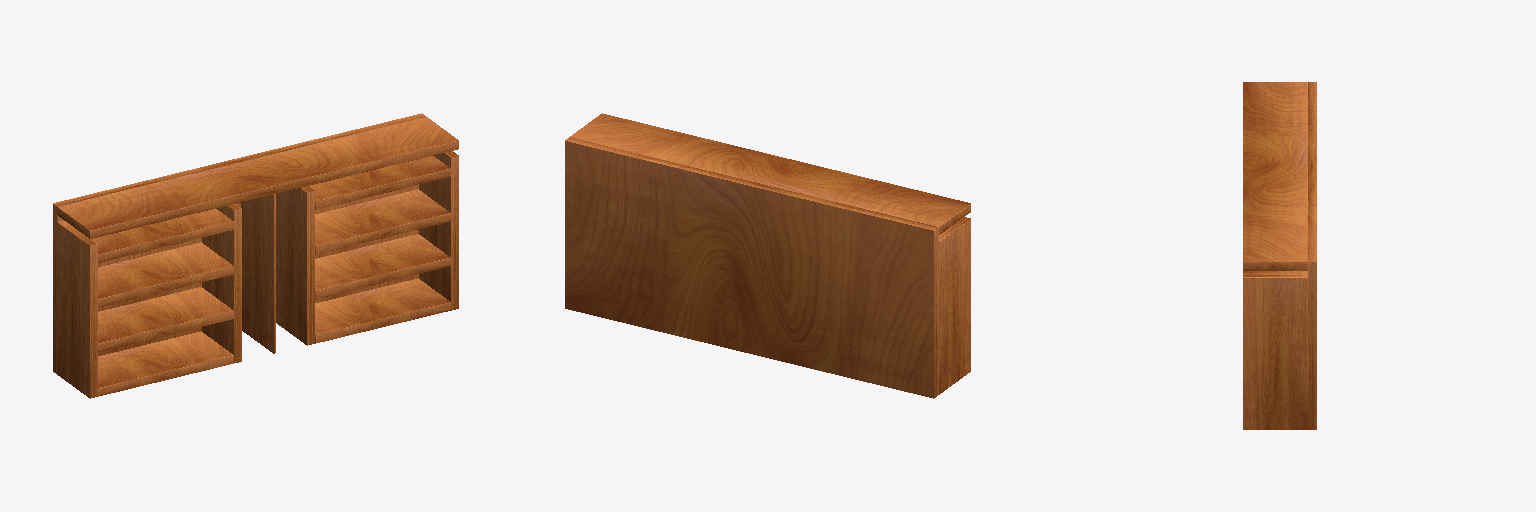
3 renders of one model, left to right at view 1: azimuth 30°, elevation 25°; view 2: azimuth 150°, elevation 25°; view 3: azimuth 270°, elevation 25°, orthographic.
Visible parts, largest first — view 1: 27; view 2: 27; view 3: 27.
Boxes of the visible parts, x1,y1,x2,y2 form: 27: [53, 113, 458, 398]; 27: [565, 113, 970, 398]; 27: [1243, 82, 1316, 429].
Size of the model in its own units: 177 by 77 by 31.
Materials: 1 (1 with a texture image).